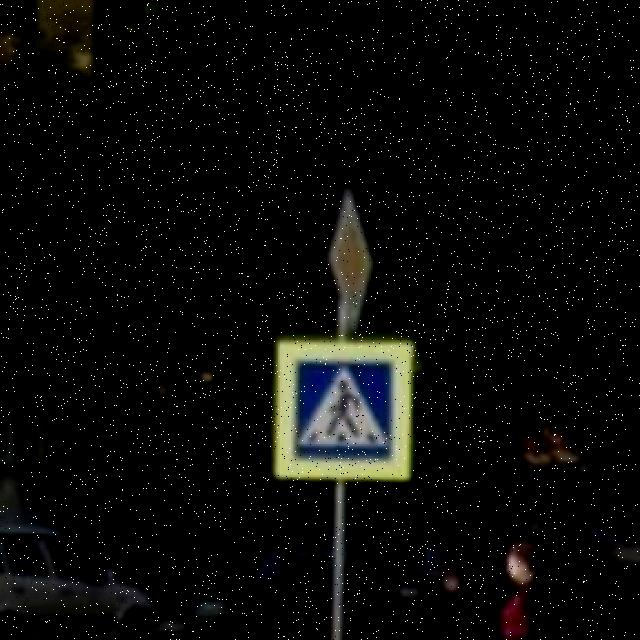Droga z pierwszenstwem: (320, 184, 374, 333)
Przejscie dla pieszych: (272, 338, 412, 482)
